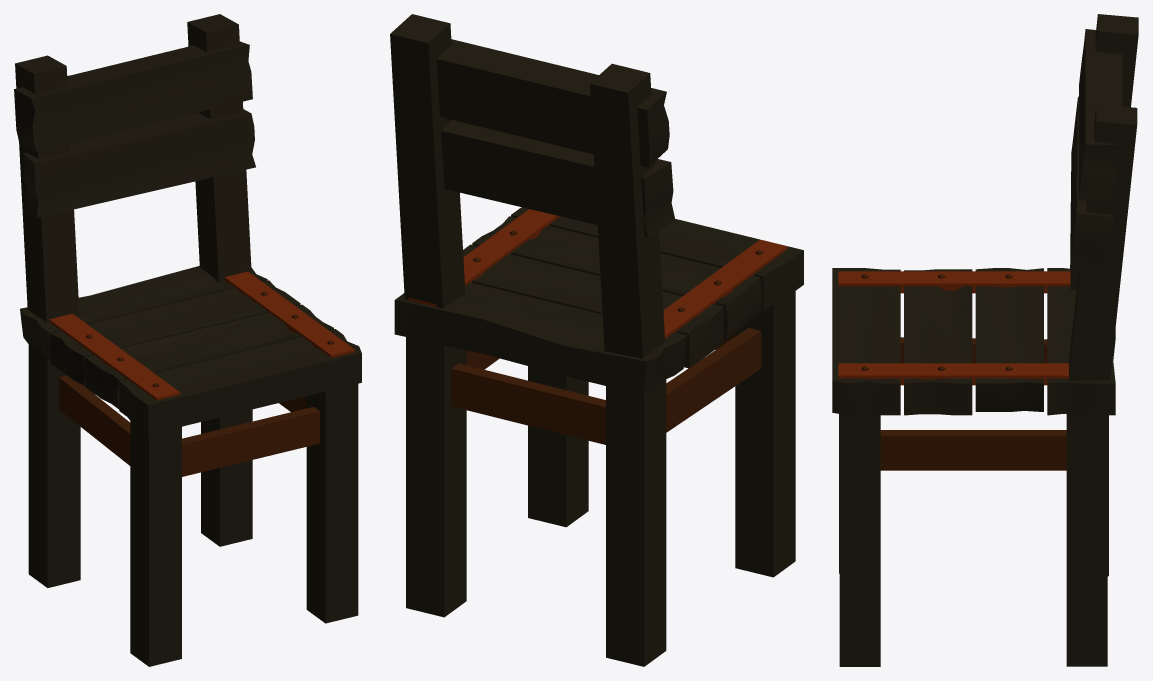
Rendered from Стул2.fbx.
3 renders of one model, left to right at view 1: azimuth 30°, elevation 25°; view 2: azimuth 150°, elevation 25°; view 3: azimuth 270°, elevation 25°, orthographic. The views are drawn at different scales.
Parts seen in each view (by area): view 1: Box001; view 2: Box001; view 3: Box001.
Boxes of the visible parts, left/top/right/bottom form: Box001: left=14, top=14, right=361, bottom=666; Box001: left=390, top=14, right=803, bottom=666; Box001: left=832, top=14, right=1138, bottom=666.
Bounding box in the file's own units: 401 × 881 × 449.
